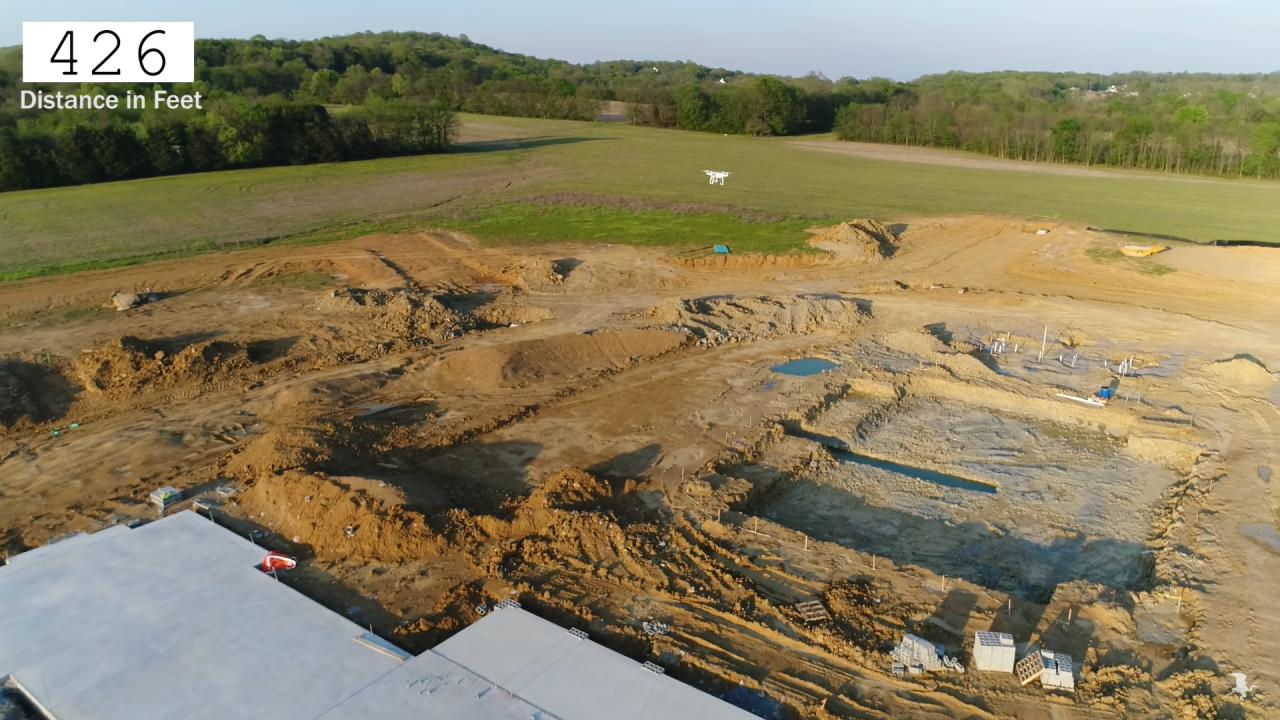Drone: (694, 159, 741, 195)
